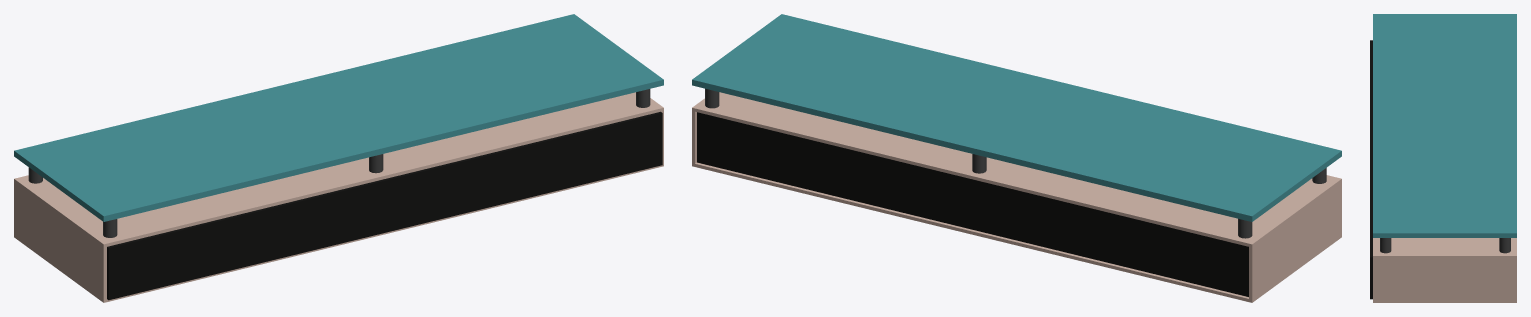
File: CarlesMesaSalaEstar.fbx
The picture shows the model from 3 angles, left to right: view 1: azimuth 30°, elevation 25°; view 2: azimuth 150°, elevation 25°; view 3: azimuth 270°, elevation 25°; orthographic projection. The views are drawn at different scales.
Parts seen in each view (by area): view 1: MesillaComedor; view 2: MesillaComedor; view 3: MesillaComedor.
Part boxes in pixels (left/top/right/bottom): MesillaComedor: left=14, top=14, right=663, bottom=302; MesillaComedor: left=692, top=14, right=1341, bottom=302; MesillaComedor: left=1370, top=14, right=1516, bottom=302.
Size of the model in its own units: 179 by 26.48 by 50.71.
